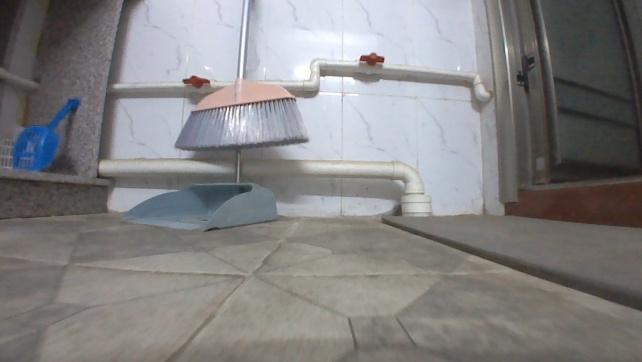blanket: (378, 209, 641, 310)
door_anno: (480, 0, 641, 205)
